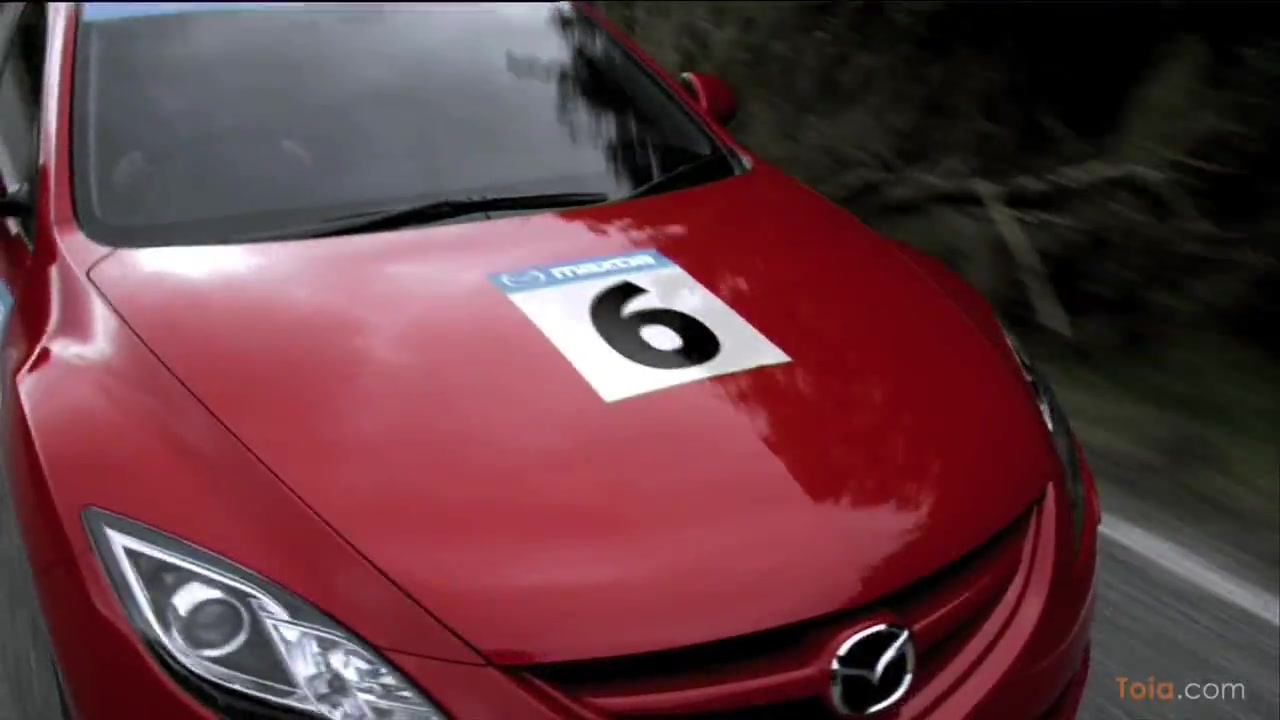car: (1, 2, 1104, 720)
